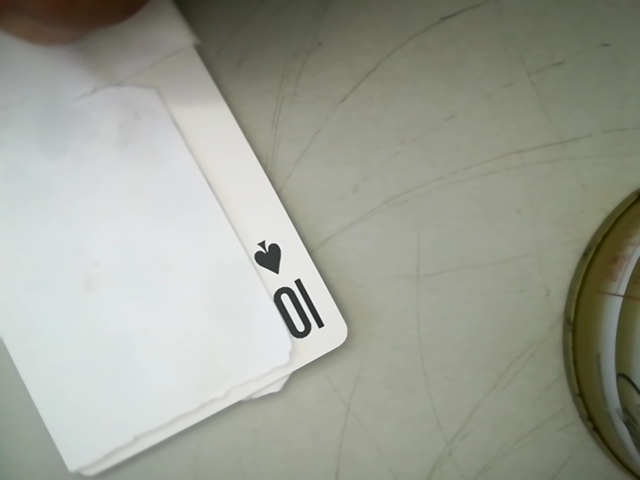ht 10: (244, 227, 331, 358)
